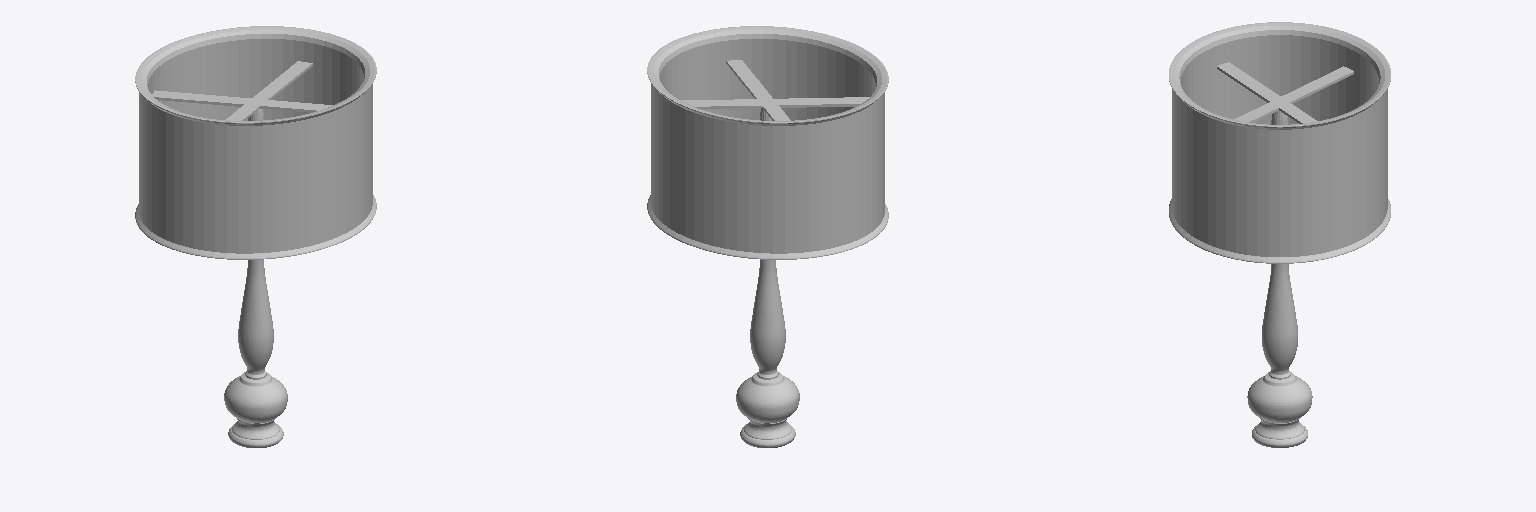
Rendered from lamp.obj.
3 views of the same model, side by side, from view 1: azimuth 30°, elevation 25°; view 2: azimuth 150°, elevation 25°; view 3: azimuth 270°, elevation 25° (orthographic).
Parts seen in each view (by area): view 1: pCylinder3; view 2: pCylinder3; view 3: pCylinder3.
Boxes of the visible parts, x1=… form: pCylinder3: x1=135, y1=26, x2=376, y2=447; pCylinder3: x1=647, y1=26, x2=888, y2=447; pCylinder3: x1=1169, y1=22, x2=1390, y2=447.
Size of the model in its own units: 8.27 by 13.38 by 7.44.